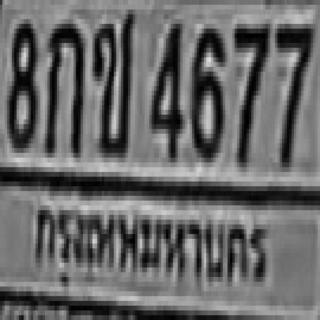A01: (43, 19, 83, 153)
A10: (92, 5, 133, 153)
N04: (149, 19, 180, 158)
N06: (190, 24, 223, 158)
N07: (232, 19, 268, 162), (275, 19, 310, 162)
N08: (5, 19, 36, 143)
P04: (28, 196, 272, 298)
